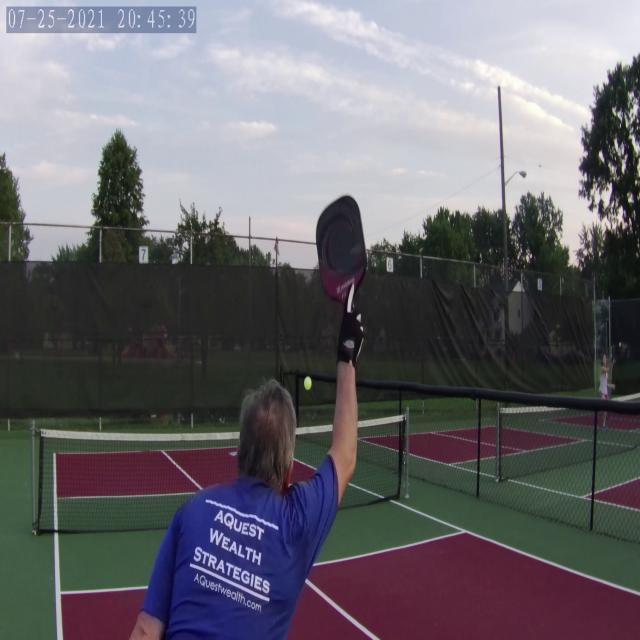ball: (300, 374, 317, 392)
